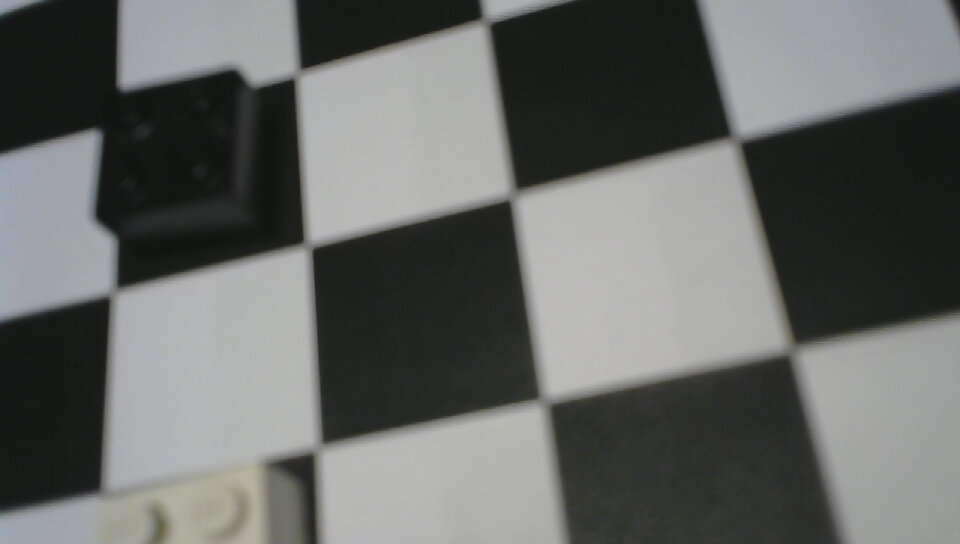bp: (87, 58, 276, 259)
